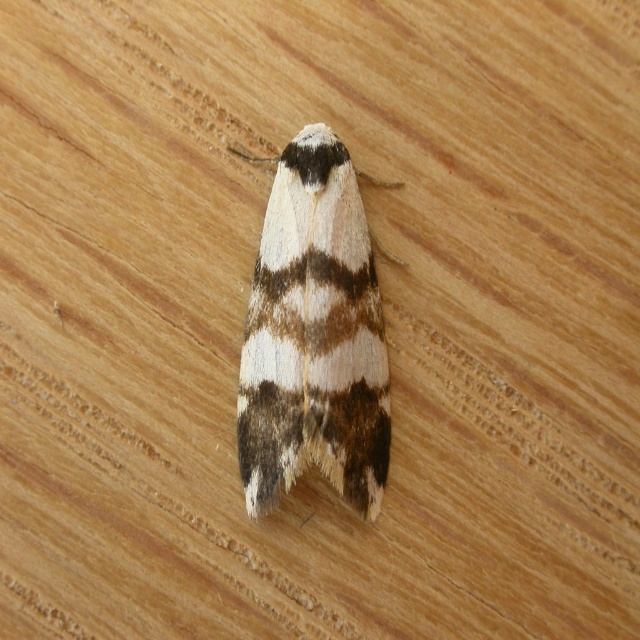Moths and butterflies: (221, 113, 407, 526)
